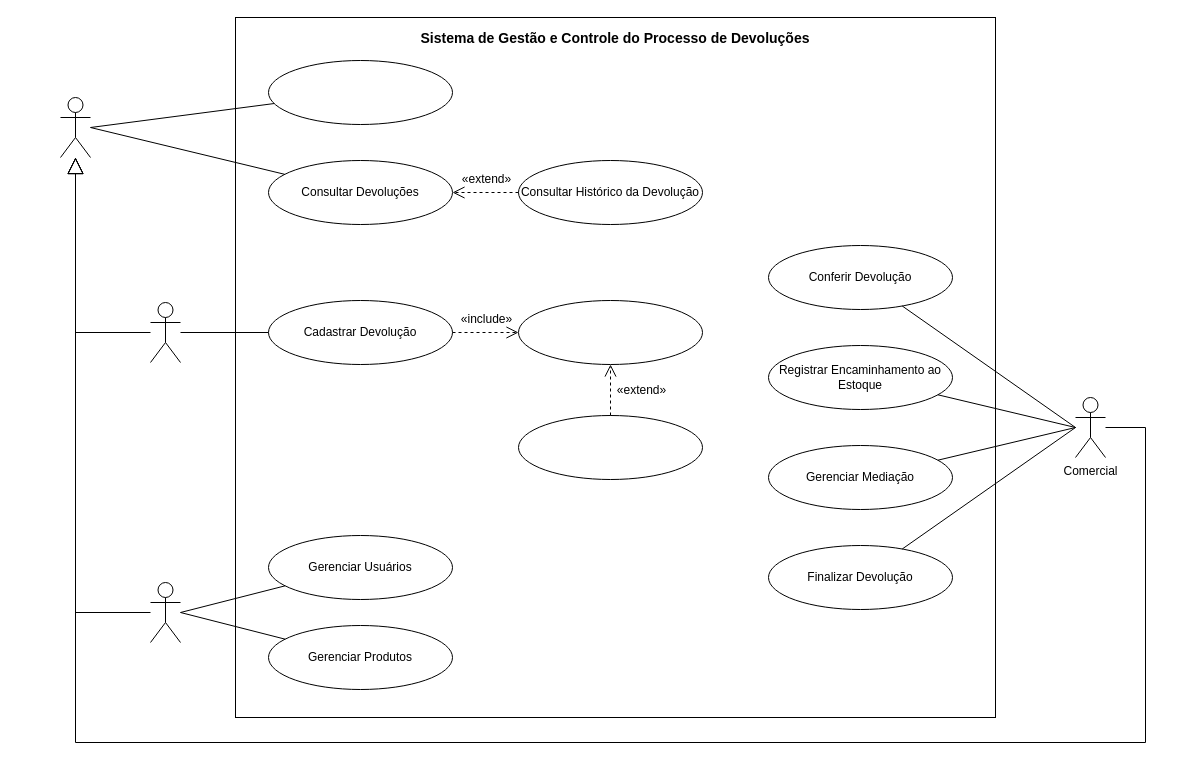
This 1179x776 diagram has some shape labels left out. The shapes that lost their labels are listed below. From the top down, each one's box as (x1, y1, x2, y2) in pixels, then its label:
(268, 60, 452, 124): Autenticar Usuário
(60, 96, 90, 158): Usuário
(150, 302, 180, 362): Produção
(518, 300, 702, 364): Registrar Conferência dos Produtos
(518, 414, 702, 480): Registrar Avaria e Evidências
(150, 582, 180, 642): Administrador
